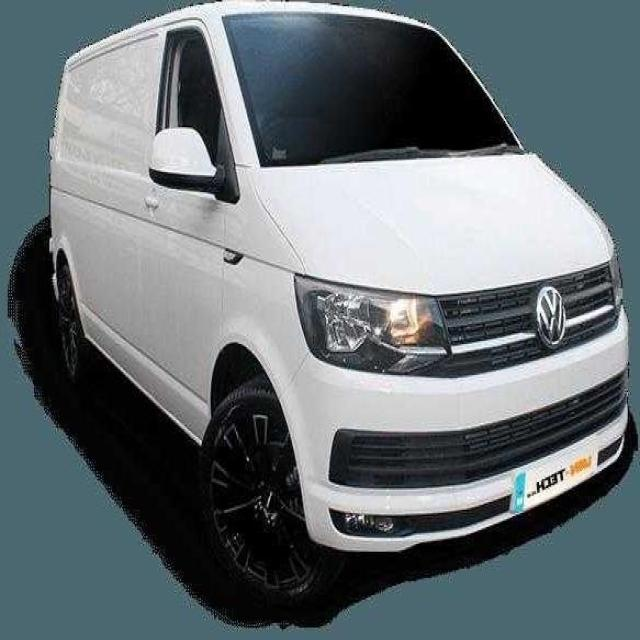Van: (44, 0, 634, 605)
